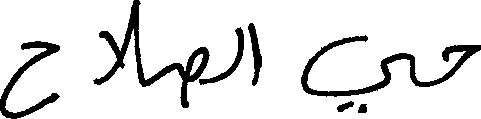ا: (246, 21, 261, 87)
ح: (0, 38, 59, 117), (440, 42, 478, 83)
ص: (183, 45, 206, 108)
ل: (229, 24, 243, 76)
لا: (92, 0, 137, 85)
ي: (299, 33, 411, 113)
